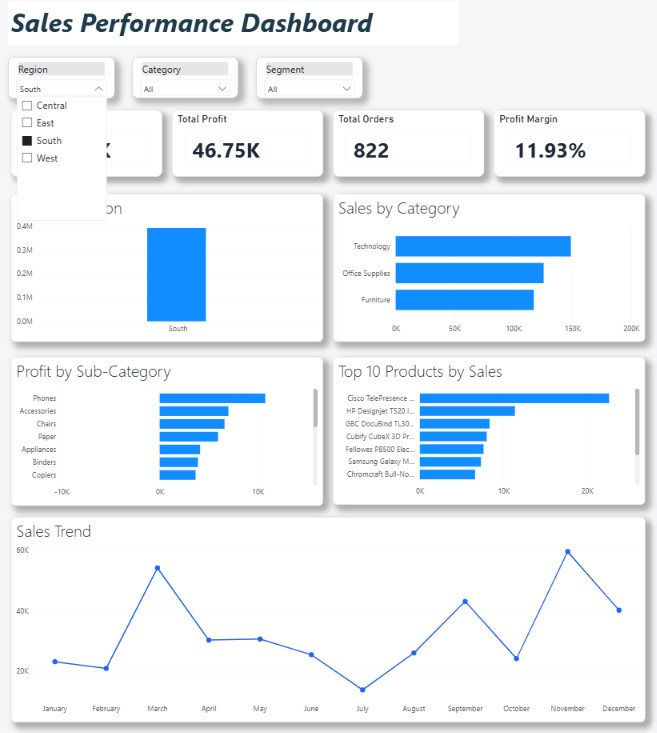

The page's visual inventory and layout, read from the dashboard file:
{"tool":"powerbi","page":{"name":"Executive Dashboard","canvas":[1100,1230],"ordinal":0},"visuals":[{"type":"cardVisual","title":"Total Sales","fields":{"Data":["Sample - Superstore.Total Sales"]},"box":[25,195,250,110],"z":0},{"type":"cardVisual","title":"Total Profit","fields":{"Data":["Sample - Superstore.Total Profit"]},"box":[291.7,195,250,110],"z":1000},{"type":"cardVisual","title":"Total Orders","fields":{"Data":["Sample - Superstore.Total Orders"]},"box":[558.3,195,250,110],"z":2000},{"type":"lineChart","title":"Sales Trend","fields":{"Category":["Sample - Superstore.Order Date.Variation.Date Hierarchy.Month"],"Y":["Sum(Sample - Superstore.Sales)"]},"box":[25,870,1050,340],"z":3000},{"type":"clusteredBarChart","title":"Sales by Category","fields":{"Category":["Sample - Superstore.Category"],"Y":["Sum(Sample - Superstore.Sales)"]},"box":[558,334,517,245],"z":4000},{"type":"clusteredColumnChart","title":"Sales by Region","fields":{"Category":["Sample - Superstore.Region"],"Y":["Sum(Sample - Superstore.Sales)"]},"box":[25,334,517,245],"z":5000},{"type":"clusteredBarChart","title":"Profit by Sub-Category","fields":{"Category":["Sample - Superstore.Sub-Category"],"Y":["Sum(Sample - Superstore.Profit)"]},"box":[25,604,517,246],"z":6000},{"type":"clusteredBarChart","title":"Top 10 Products by Sales","fields":{"Category":["Sample - Superstore.Product Name"],"Y":["Sum(Sample - Superstore.Sales)"]},"box":[558,605,517,245],"z":7000},{"type":"slicer","fields":{"Values":["Sample - Superstore.Region"]},"box":[20,107.7,176.7,68.9],"z":8000},{"type":"slicer","fields":{"Values":["Sample - Superstore.Segment"]},"box":[431,107.7,176.7,68.9],"z":9000},{"type":"slicer","fields":{"Values":["Sample - Superstore.Category"]},"box":[225.8,107.7,176,68],"z":10000},{"type":"textbox","title":"Sales Performance Dashboardm","box":[20,15,746.2,73.8],"z":11000},{"type":"cardVisual","title":"Profit Margin","fields":{"Data":["Sample - Superstore.Profit Margin"]},"box":[825,195,250,110],"z":12000}]}

Visuals, with their boxes in screenshot pixels (x1, y1, x2, y2), scaled from the page's 1100x1230 canvas onto the 657x733 screenshot:
"Total Sales" cardVisual: BBox(15, 116, 164, 182)
"Total Profit" cardVisual: BBox(174, 116, 324, 182)
"Total Orders" cardVisual: BBox(333, 116, 483, 182)
"Sales Trend" lineChart: BBox(15, 518, 642, 721)
"Sales by Category" clusteredBarChart: BBox(333, 199, 642, 345)
"Sales by Region" clusteredColumnChart: BBox(15, 199, 324, 345)
"Profit by Sub-Category" clusteredBarChart: BBox(15, 360, 324, 507)
"Top 10 Products by Sales" clusteredBarChart: BBox(333, 361, 642, 507)
slicer - Sample - Superstore.Region: BBox(12, 64, 117, 105)
slicer - Sample - Superstore.Segment: BBox(257, 64, 363, 105)
slicer - Sample - Superstore.Category: BBox(135, 64, 240, 105)
"Sales Performance Dashboardm" textbox: BBox(12, 9, 458, 53)
"Profit Margin" cardVisual: BBox(493, 116, 642, 182)
